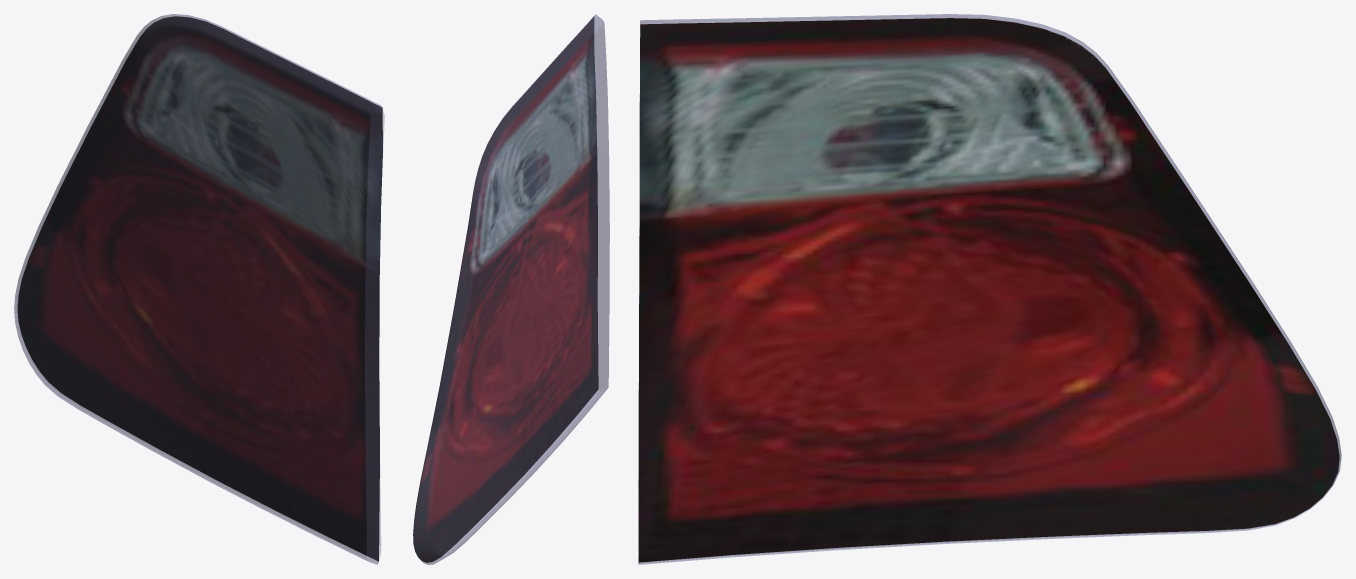
3 renders of one model, left to right at view 1: azimuth 30°, elevation 25°; view 2: azimuth 150°, elevation 25°; view 3: azimuth 270°, elevation 25°, orthographic. The views are drawn at different scales.
Visible parts, largest first — view 1: H124_541D_R_1_DTaSI_H124_541D_R, H124_541D_R_H124_541D_R_2_N; view 2: H124_541D_R_1_DTaSI_H124_541D_R, H124_541D_R_H124_541D_R_2_N; view 3: H124_541D_R_H124_541D_R_2_N, H124_541D_R_1_DTaSI_H124_541D_R.
Boxes of the visible parts, bbox=[...] form: H124_541D_R_1_DTaSI_H124_541D_R: bbox=[14, 14, 384, 564]; H124_541D_R_H124_541D_R_2_N: bbox=[17, 16, 382, 561]; H124_541D_R_1_DTaSI_H124_541D_R: bbox=[413, 14, 609, 564]; H124_541D_R_H124_541D_R_2_N: bbox=[413, 17, 598, 562]; H124_541D_R_H124_541D_R_2_N: bbox=[638, 18, 1339, 562]; H124_541D_R_1_DTaSI_H124_541D_R: bbox=[638, 14, 1341, 564].
Bounding box in the file's own units: 5.24 × 27.01 × 31.26.
